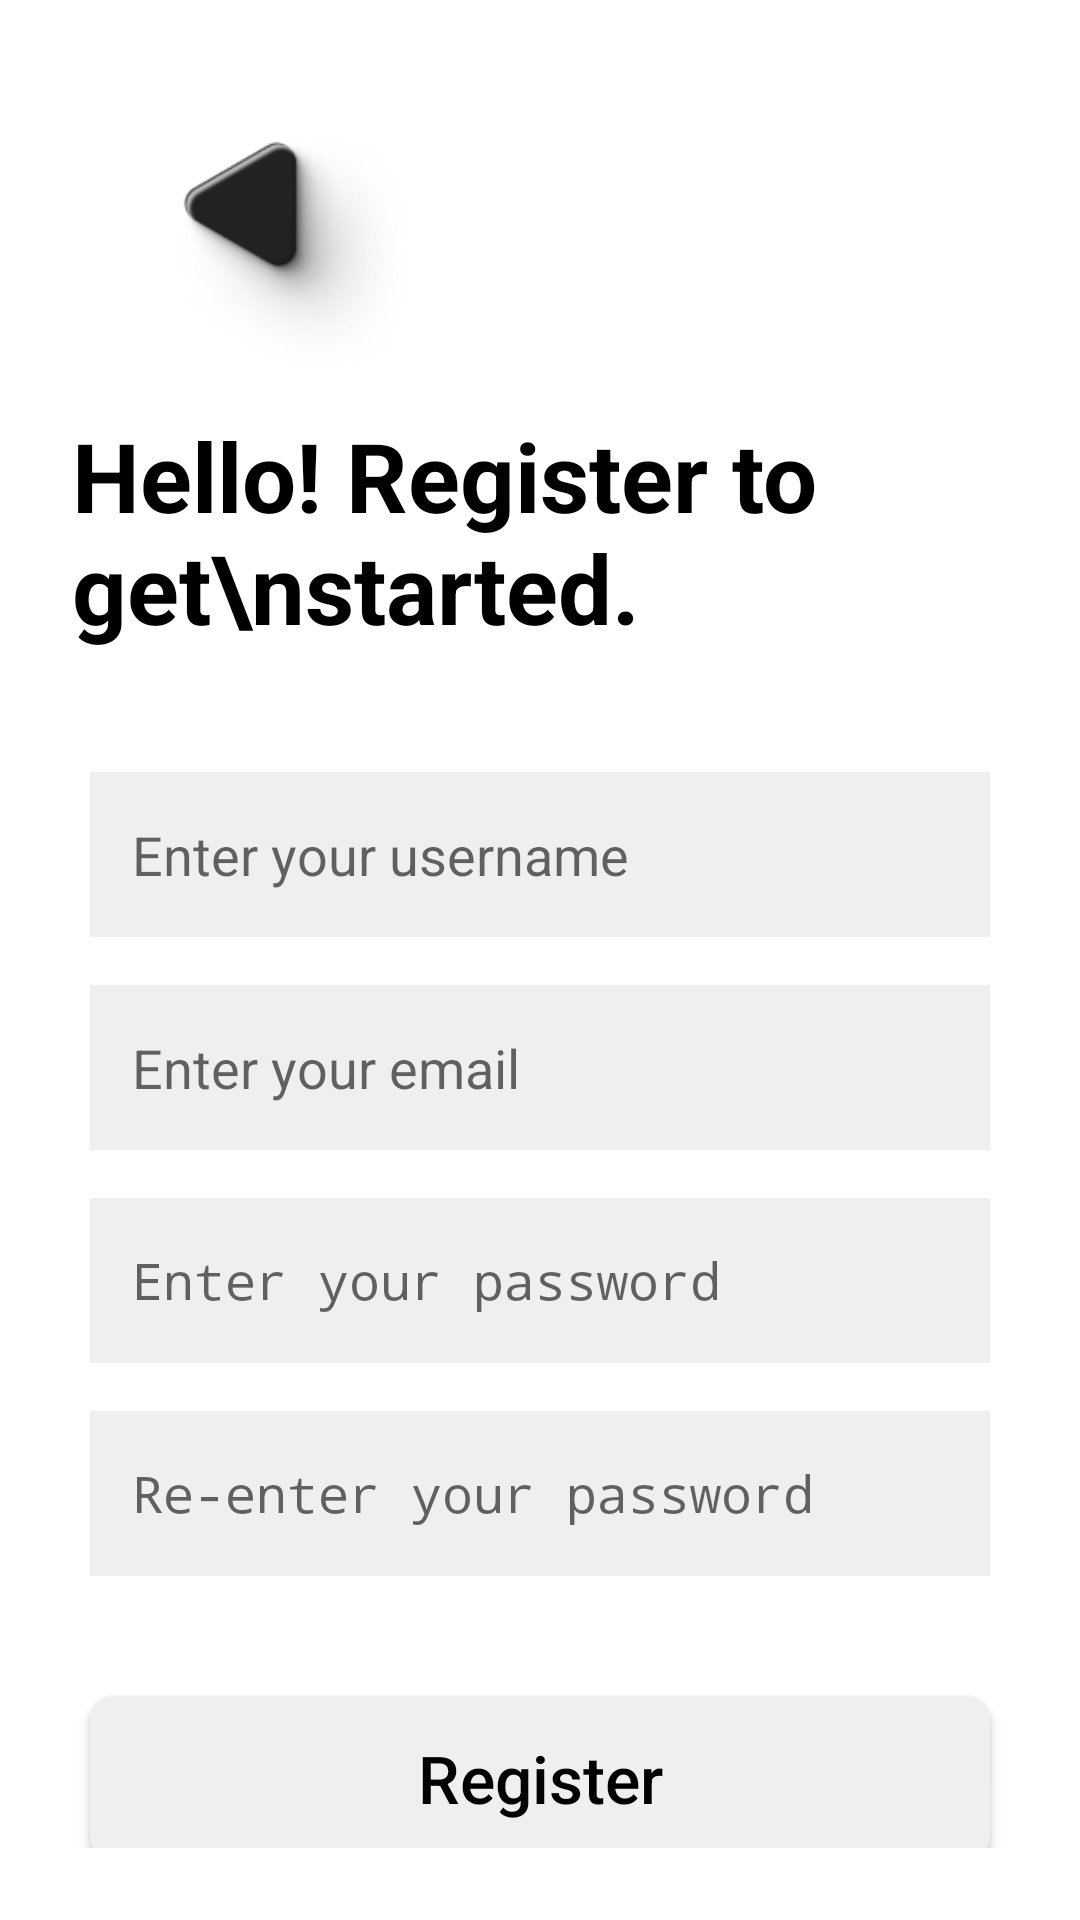

Where icons sit on this 1080w x 1920h app screen, as {"left": x1, "top": y1, "right": x2, "bottom": y2}:
Back: {"left": 184, "top": 142, "right": 342, "bottom": 301}
